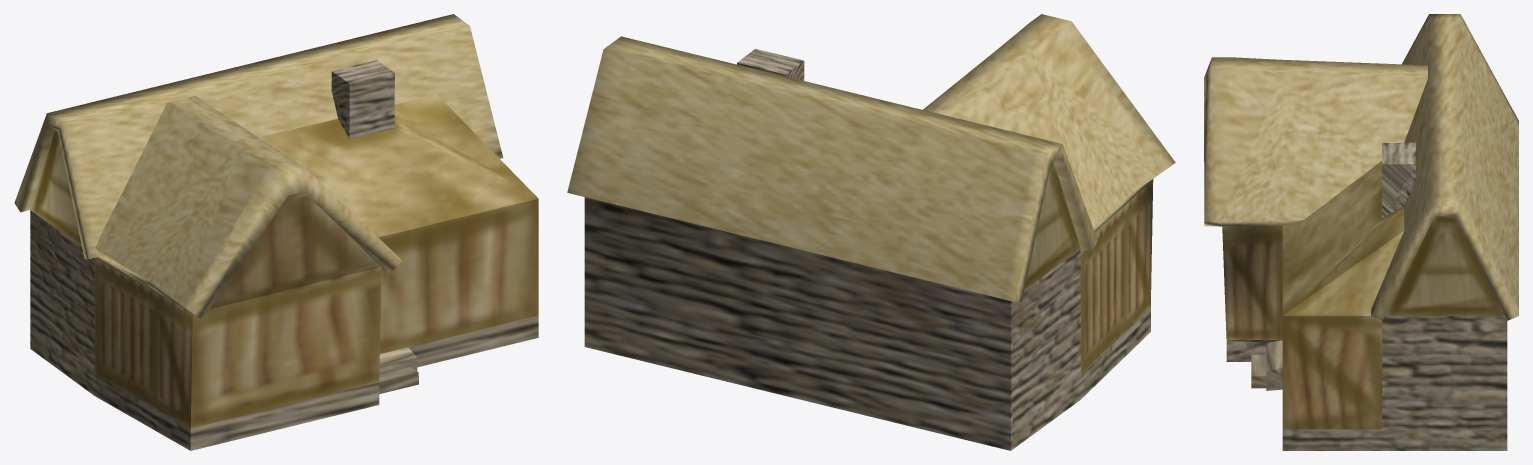
Rendered from Village_HouseBig.fbx.
3 renders of one model, left to right at view 1: azimuth 30°, elevation 25°; view 2: azimuth 150°, elevation 25°; view 3: azimuth 270°, elevation 25°, orthographic. The views are drawn at different scales.
Parts seen in each view (by area): view 1: House_Big; view 2: House_Big; view 3: House_Big.
Part boxes in pixels (x1,y1,x2,y2): House_Big: (14, 14, 538, 450); House_Big: (567, 14, 1175, 450); House_Big: (1204, 14, 1518, 450).
Bounding box in the file's own units: 7.87 × 4.79 × 5.36.
